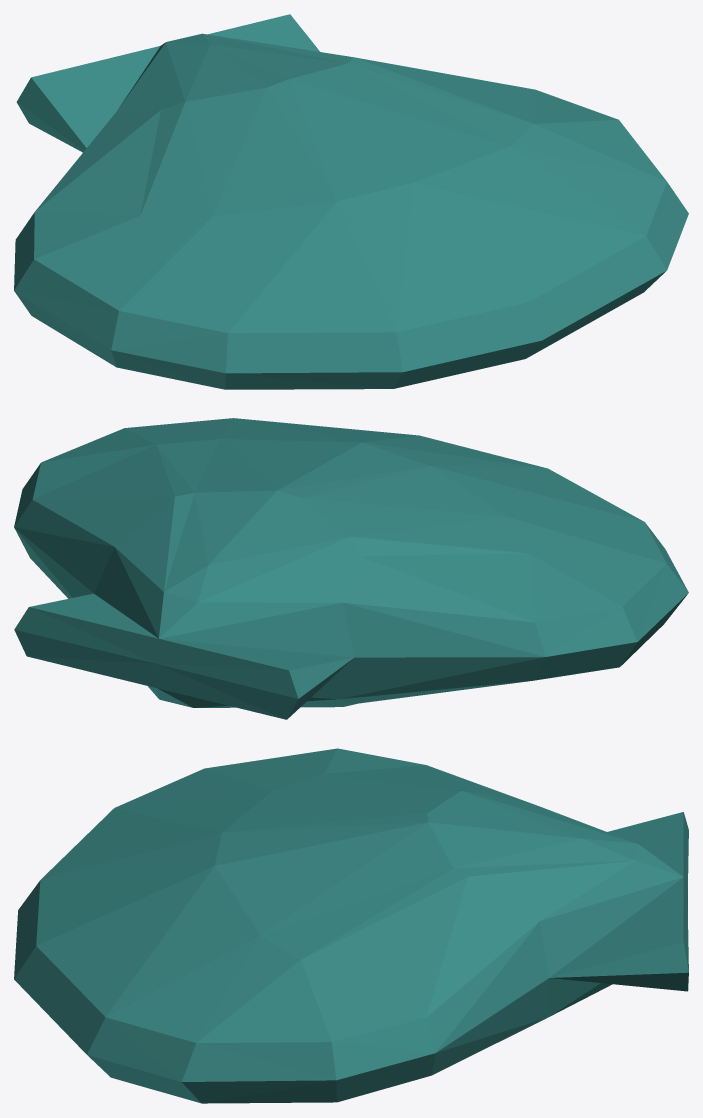
Rendered from SM_Sea_Shell_Scallop_Closed_A.fbx.
3 renders of one model, top to bottom at view 1: azimuth 30°, elevation 25°; view 2: azimuth 150°, elevation 25°; view 3: azimuth 270°, elevation 25°, orthographic. The views are drawn at different scales.
Visible parts, largest first — view 1: sea-shell-scallop-closed-a; view 2: sea-shell-scallop-closed-a; view 3: sea-shell-scallop-closed-a.
Boxes of the visible parts, x1=… form: sea-shell-scallop-closed-a: x1=14, y1=14, x2=688, y2=389; sea-shell-scallop-closed-a: x1=14, y1=418, x2=688, y2=719; sea-shell-scallop-closed-a: x1=14, y1=748, x2=688, y2=1103.
Bounding box in the file's own units: 0.1651 × 0.0498 × 0.1517.
